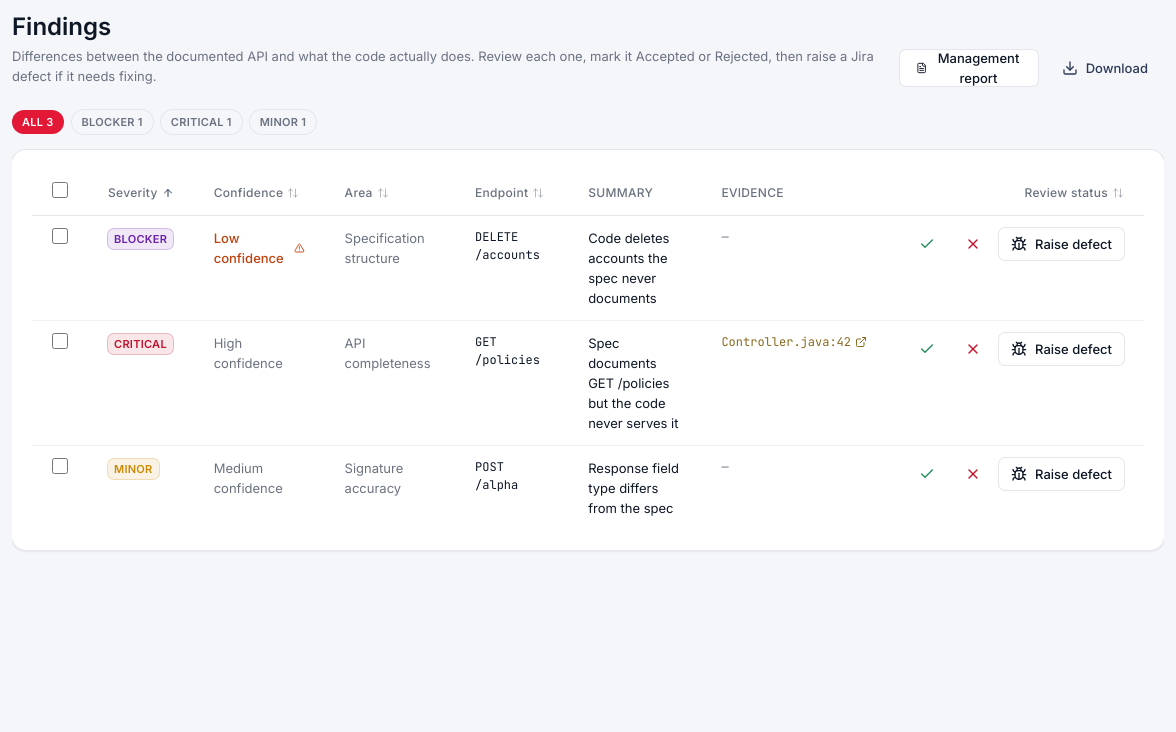
Test: Findings — severity filter chips › clicking a severity chip narrows the table to that severity
Expected: the text "Spec documents GET /policies but the code never serves it" is shown, [588,333,682,433]
Expected: the text "Code deletes accounts the spec never documents" is shown, [588,228,682,308]
Click the button "Critical 1" at (201,122), box [161,110,242,134]
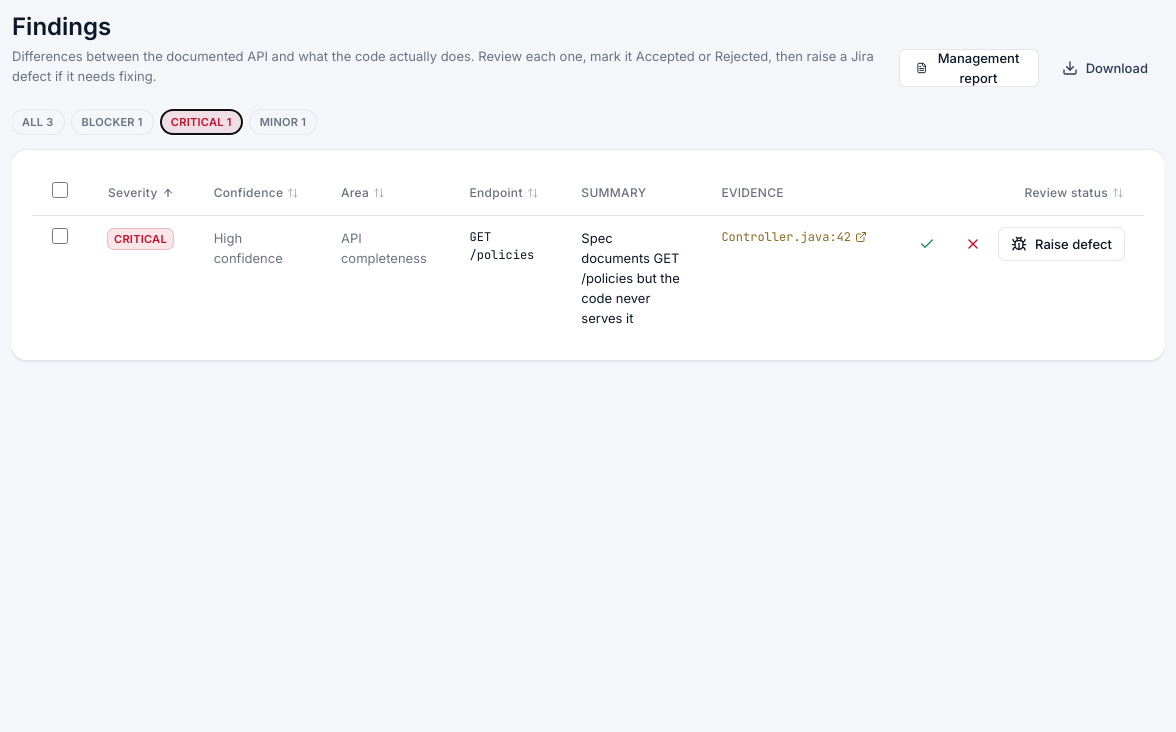
Expected: the text "Spec documents GET /policies but the code never serves it" is shown, [581,228,681,328]
Now the text "Code deletes accounts the spec never documents" is gone
Now the text "Response field type differs from the spec" is gone
